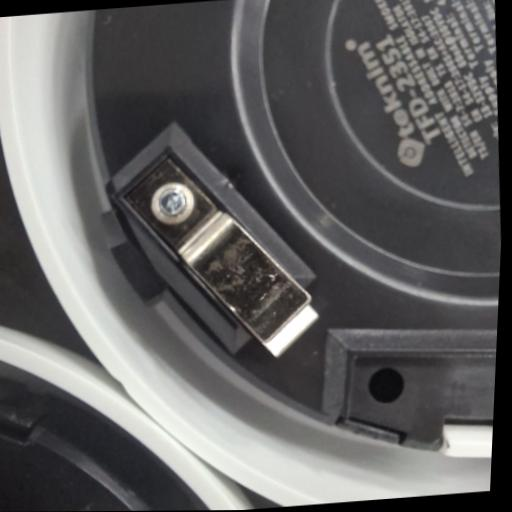yayli: (106, 139, 325, 367)
